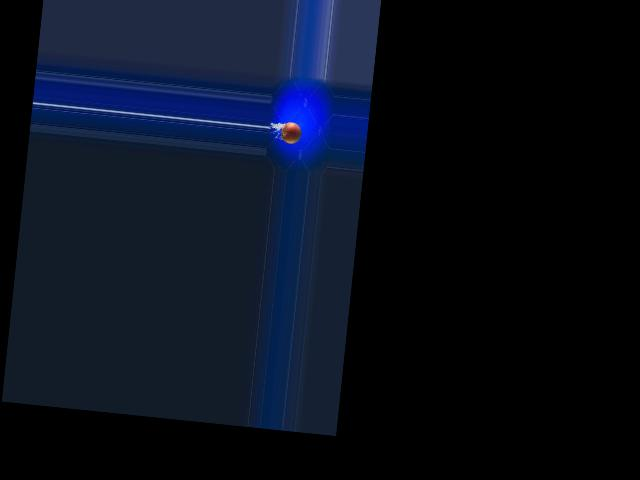tomato: (280, 121, 302, 145)
